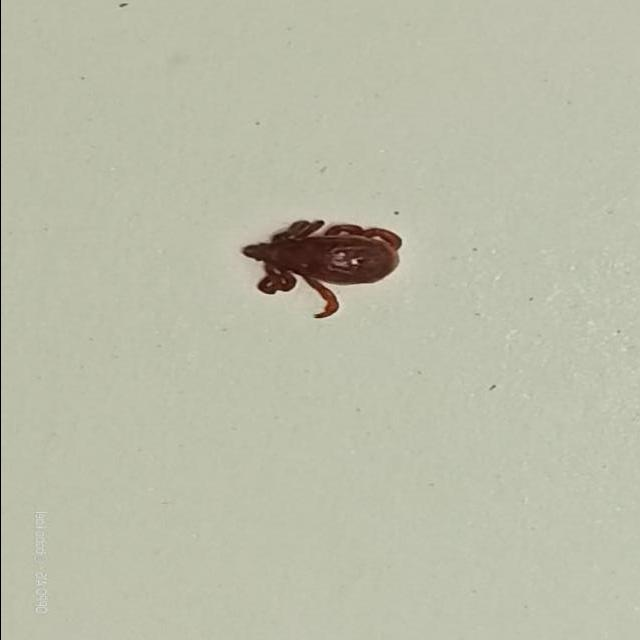Rhipicephalus Sanguineus-M: (239, 218, 401, 318)
